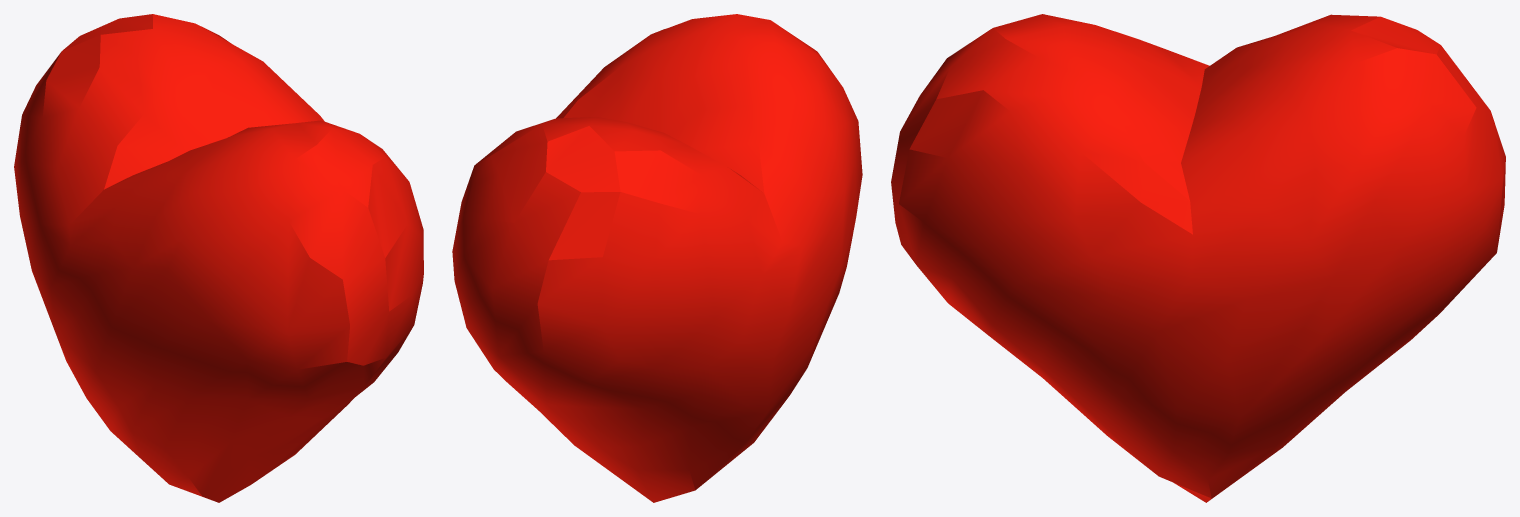
The model's file is heart.dae.
The picture shows the model from 3 angles, left to right: view 1: azimuth 30°, elevation 25°; view 2: azimuth 150°, elevation 25°; view 3: azimuth 270°, elevation 25°; orthographic projection. The views are drawn at different scales.
Parts seen in each view (by area): view 1: Heart; view 2: Heart; view 3: Heart.
Part boxes in pixels (bbox=[...]): Heart: bbox=[14, 14, 423, 502]; Heart: bbox=[452, 14, 862, 502]; Heart: bbox=[891, 14, 1505, 502].
Size of the model in its own units: 21.77 by 29.44 by 34.76.
